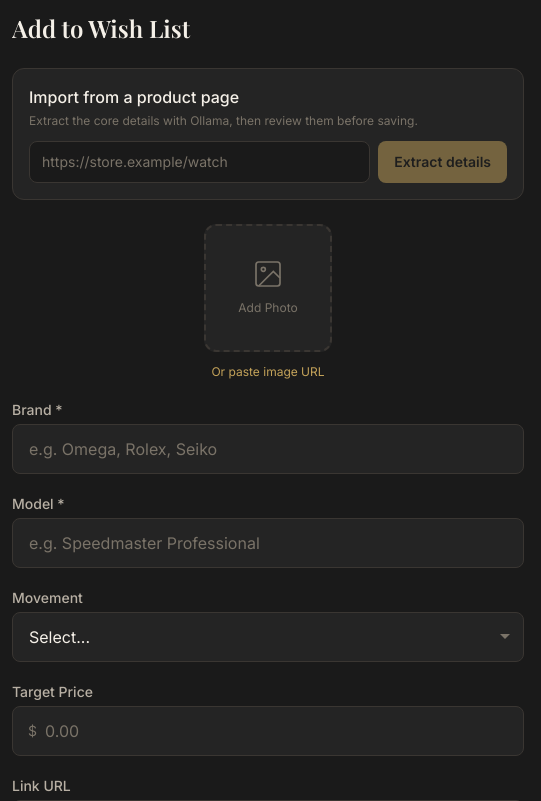
Test: wishlist URL import › clears the URL field and its error without touching the extracted values
Type "https://shop.example.test/watch" into the field with test id "wishlist-source-url" at (200, 162), box [29,141,370,183]
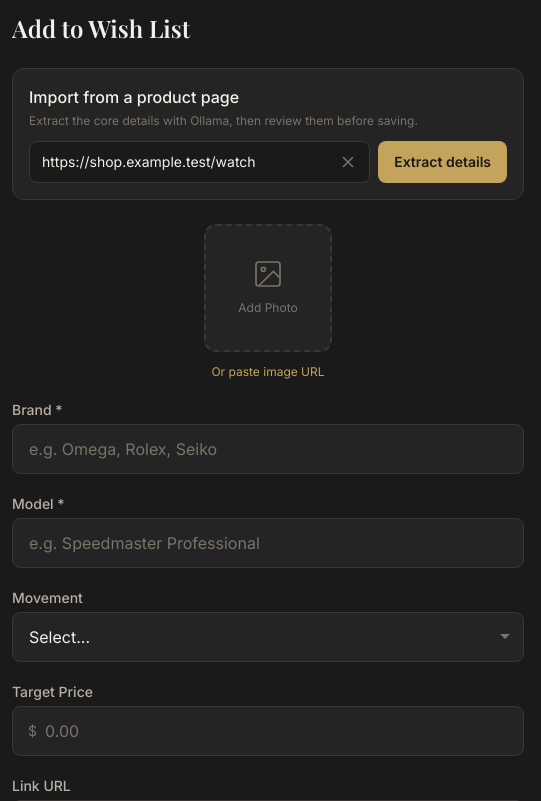
Now the button with test id "wishlist-clear-url" is shown, box [326,141,370,183]
Click the button "Extract details" at (443, 162), box [378,141,507,183]
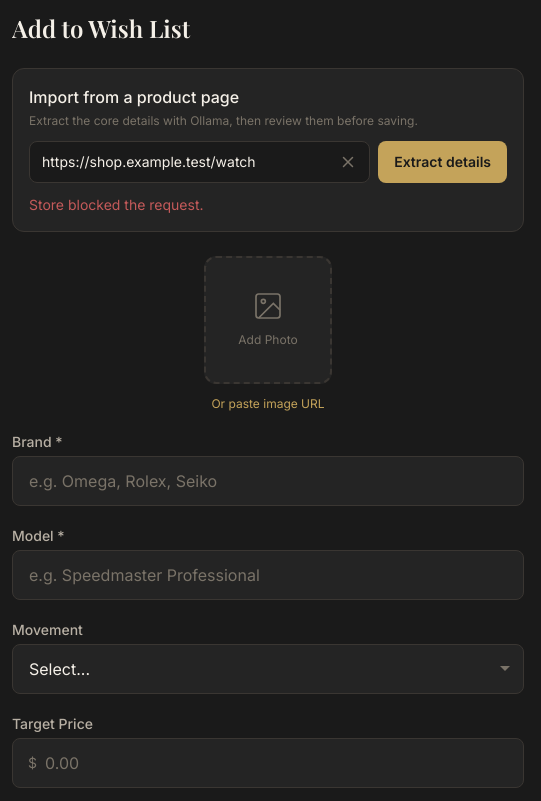
Now the text "Store blocked the request." is shown, box [29,196,204,213]
Type "My manual brand" into the field with placeholder "e.g. Omega, Rolex, Seiko" at (268, 481), box [12,456,524,506]
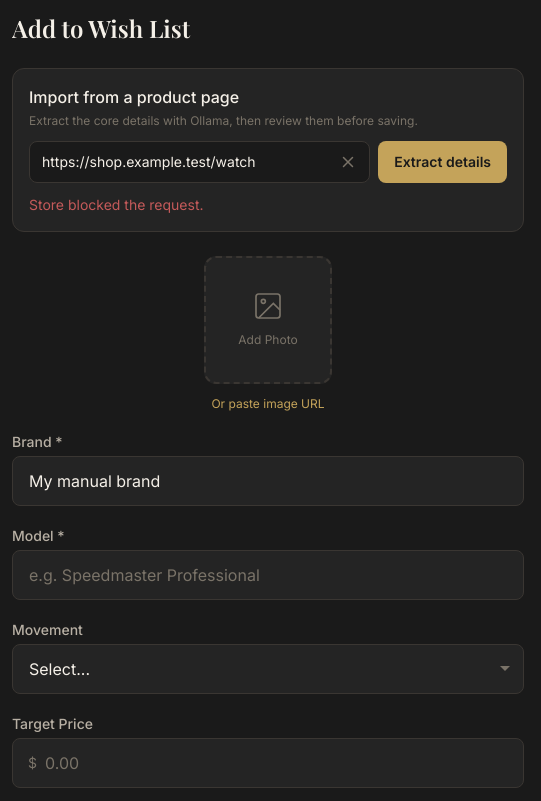
Click the button with test id "wishlist-clear-url" at (348, 162), box [326,141,370,183]
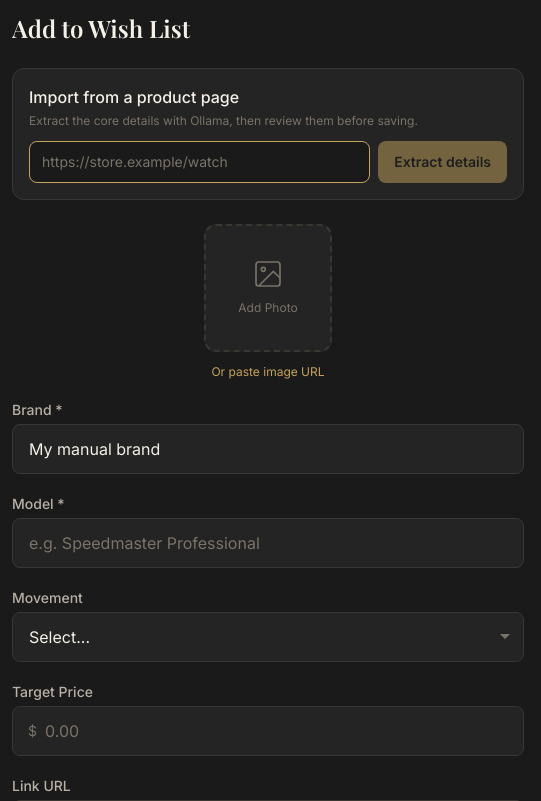
Now the field with test id "wishlist-source-url" is empty, box [29,141,370,183]
Now the text "Store blocked the request." is gone
